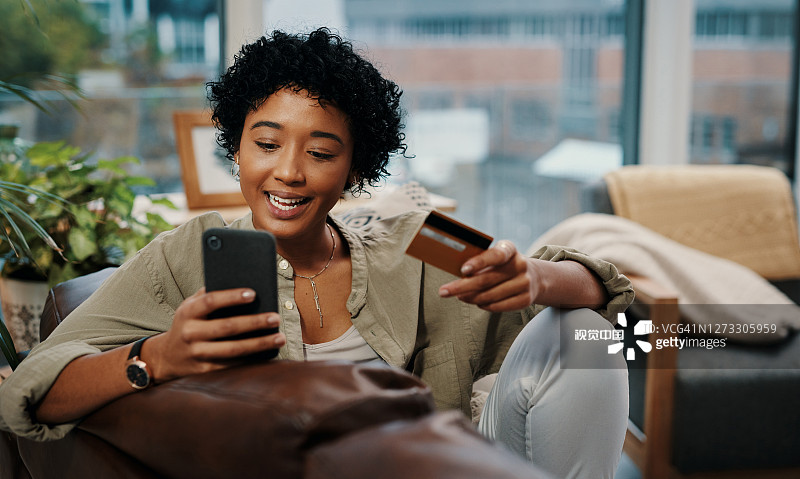no-phone: (409, 212, 552, 323)
reading: (155, 233, 296, 388)
